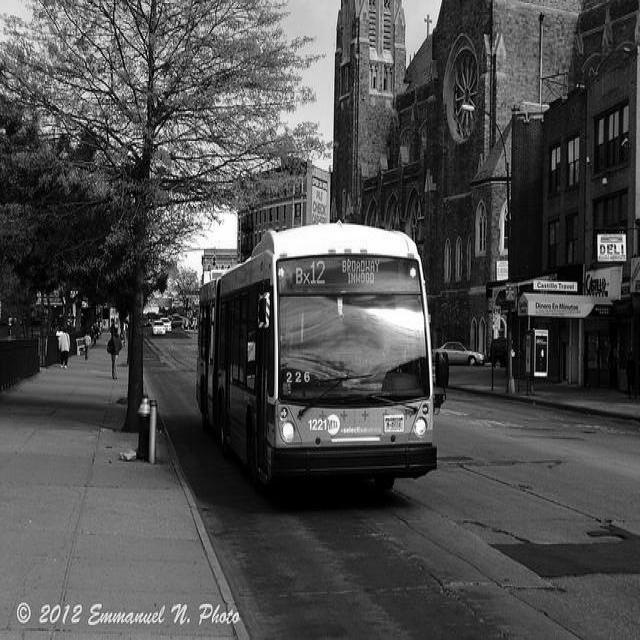vehicle: (195, 224, 439, 498), (433, 342, 486, 366), (172, 316, 188, 330), (152, 321, 166, 335), (160, 316, 172, 332), (142, 316, 149, 326)
